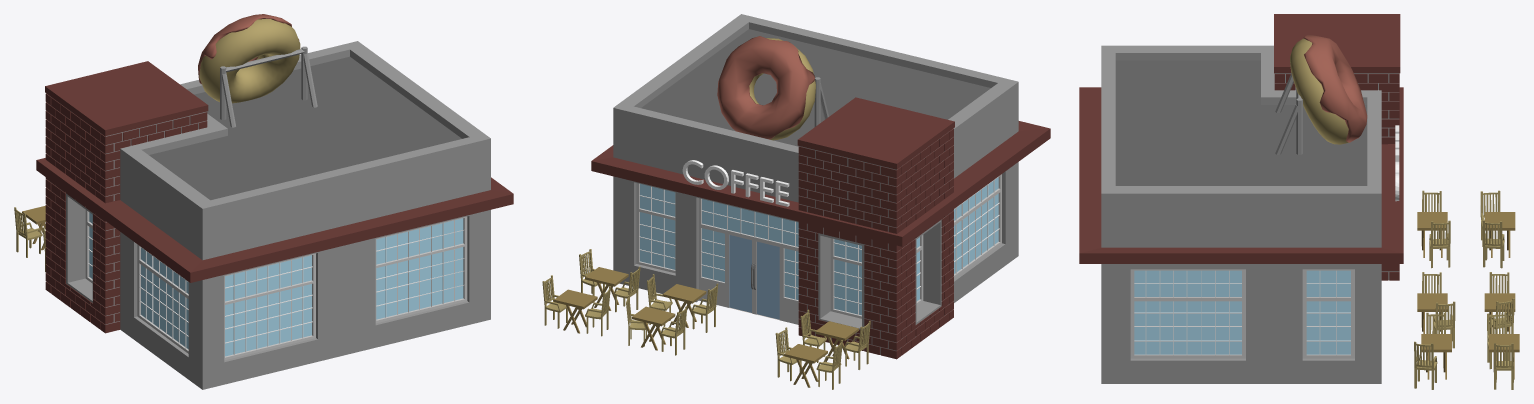
Rendered from office2.glb.
3 views of the same model, side by side, from view 1: azimuth 30°, elevation 25°; view 2: azimuth 150°, elevation 25°; view 3: azimuth 270°, elevation 25° (orthographic). The views are drawn at different scales.
Parts seen in each view (by area): view 1: city_private_houses.905; view 2: city_private_houses.905; view 3: city_private_houses.905.
Boxes of the visible parts, x1,y1,x2,y2 form: city_private_houses.905: (14, 14, 513, 389); city_private_houses.905: (542, 14, 1050, 389); city_private_houses.905: (1079, 14, 1519, 389).
Bounding box in the file's own units: 11.21 × 8.67 × 12.56.
Materials: 1 (1 with a texture image).
